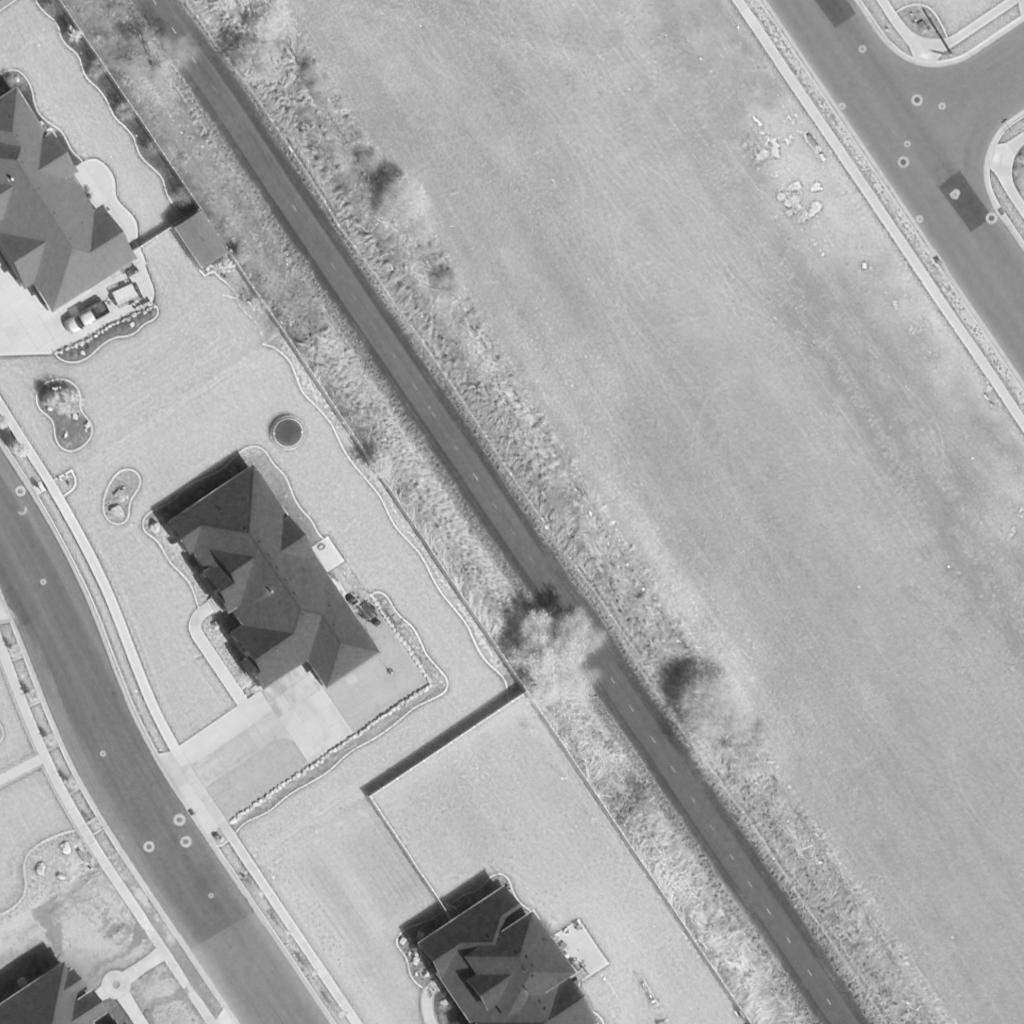vehicle: (63, 300, 111, 336)
